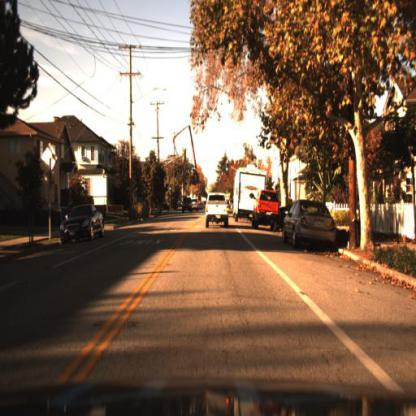car: (283, 197, 338, 253), (58, 202, 105, 246), (250, 186, 281, 230), (200, 195, 229, 235), (181, 196, 196, 216)
truck: (231, 165, 272, 225), (233, 163, 270, 223)
